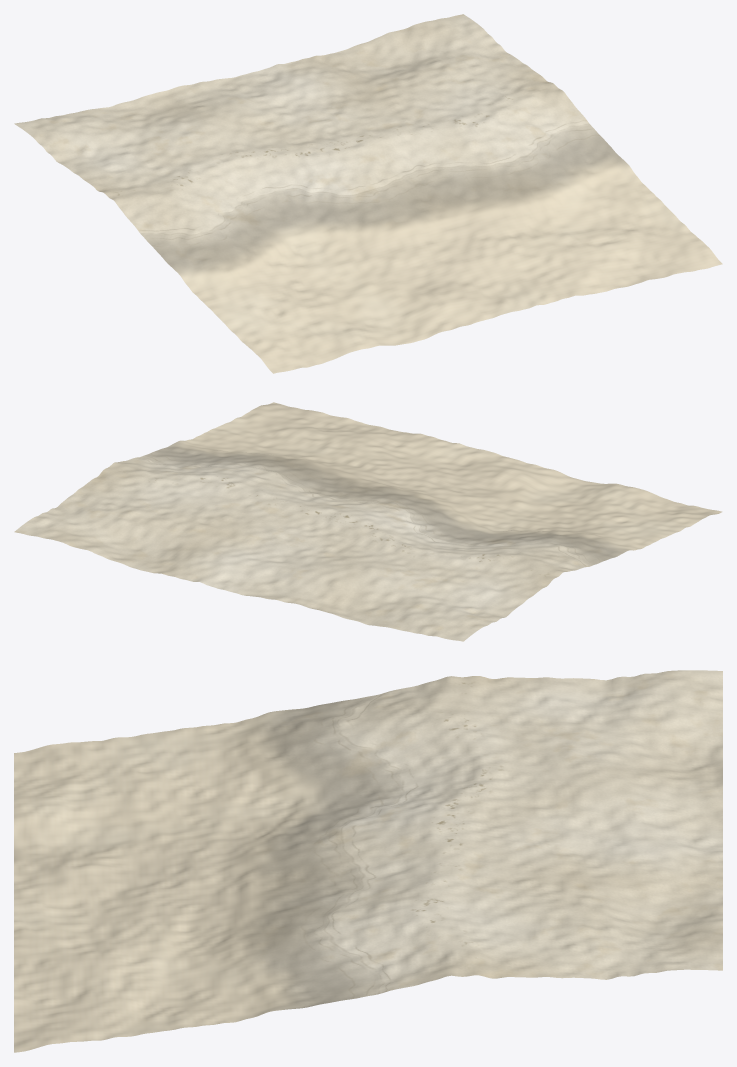
File: BeachTerrain_Shore.gltf
The picture shows the model from 3 angles, top to bottom: view 1: azimuth 30°, elevation 25°; view 2: azimuth 150°, elevation 25°; view 3: azimuth 270°, elevation 25°; orthographic projection. The views are drawn at different scales.
Parts seen in each view (by area): view 1: BeachTerrain_Shore; view 2: BeachTerrain_Shore; view 3: BeachTerrain_Shore.
Boxes of the visible parts, left/top/right/bottom form: BeachTerrain_Shore: left=14, top=14, right=722, bottom=373; BeachTerrain_Shore: left=14, top=402, right=722, bottom=641; BeachTerrain_Shore: left=14, top=670, right=722, bottom=1052.
Size of the model in its own units: 40 by 5.49 by 40.
1 material, 1 textured.
